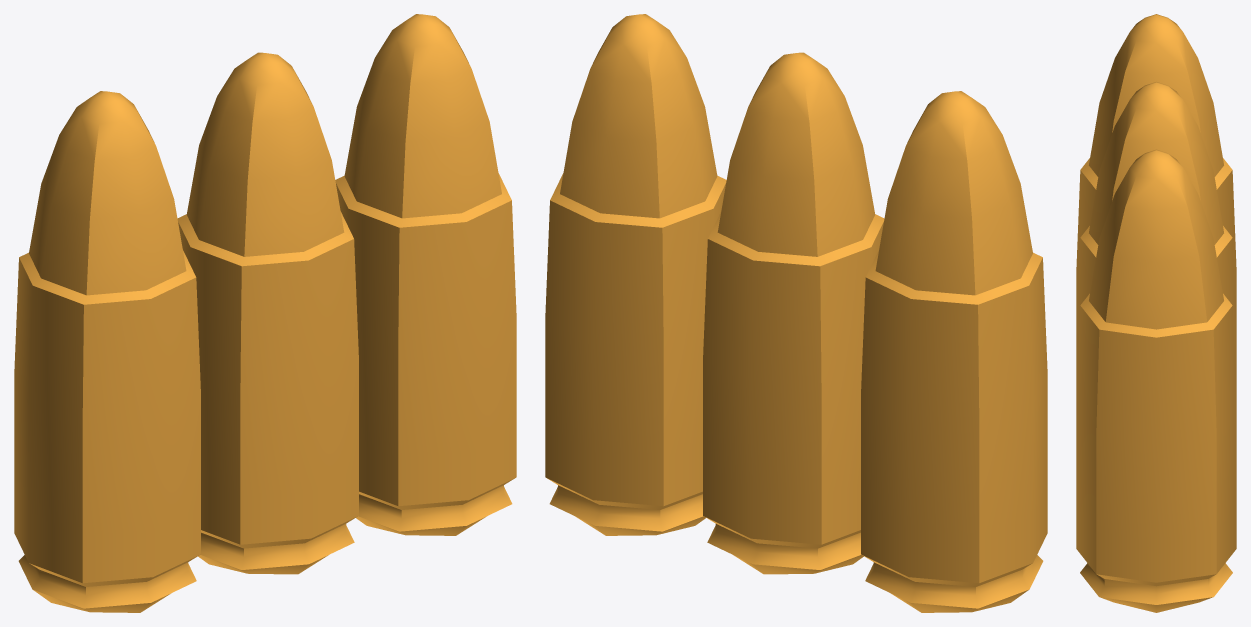
File: Pickup Bullets.glb
3 views of the same model, side by side, from view 1: azimuth 30°, elevation 25°; view 2: azimuth 150°, elevation 25°; view 3: azimuth 270°, elevation 25° (orthographic). The views are drawn at different scales.
Visible parts, largest first — view 1: Pickup_Bullets; view 2: Pickup_Bullets; view 3: Pickup_Bullets.
Part boxes in pixels (<box>): Pickup_Bullets: <box>14,14,516,612</box>; Pickup_Bullets: <box>545,14,1047,612</box>; Pickup_Bullets: <box>1076,14,1236,612</box>.
Bounding box in the file's own units: 0.8284 × 0.8421 × 0.2761.
Materials: 1 (1 with a texture image).
